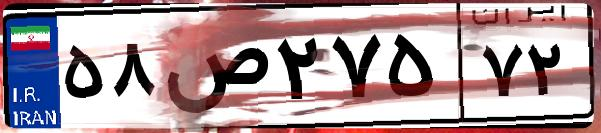2: (270, 28, 330, 110), (525, 38, 570, 115)
5: (385, 28, 445, 110), (57, 26, 110, 100)
7: (330, 28, 385, 110), (475, 38, 525, 113)
8: (110, 28, 158, 98)
ص: (158, 20, 270, 120)
